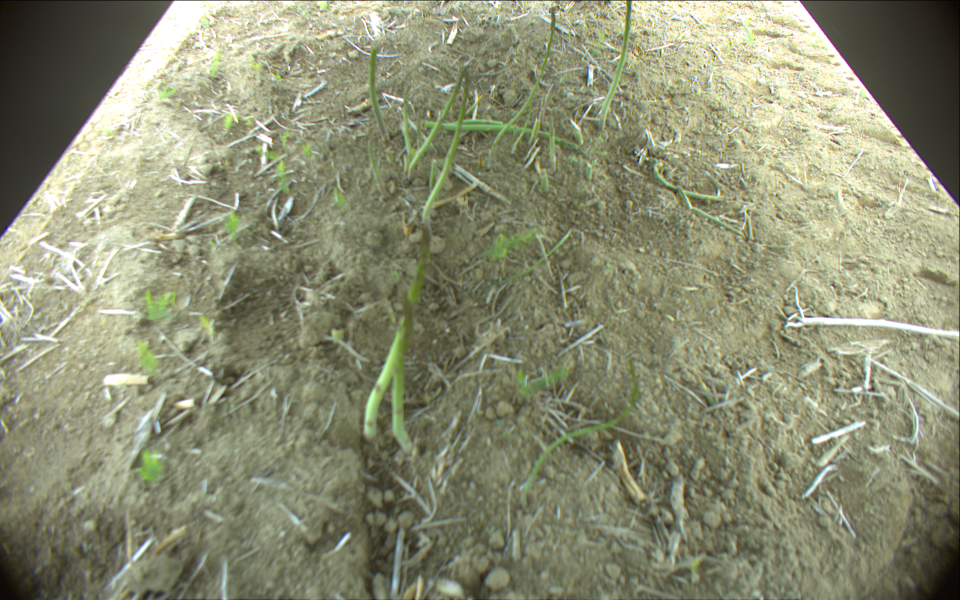aspa: (518, 356, 639, 490), (363, 222, 436, 440), (492, 8, 555, 148), (408, 67, 465, 178), (599, 1, 634, 128), (424, 121, 575, 149), (425, 123, 579, 150), (389, 295, 414, 456), (656, 162, 723, 203), (679, 189, 740, 234), (370, 46, 387, 139), (510, 113, 534, 153), (402, 84, 412, 158), (426, 158, 437, 199), (531, 117, 541, 146), (417, 111, 421, 151)
